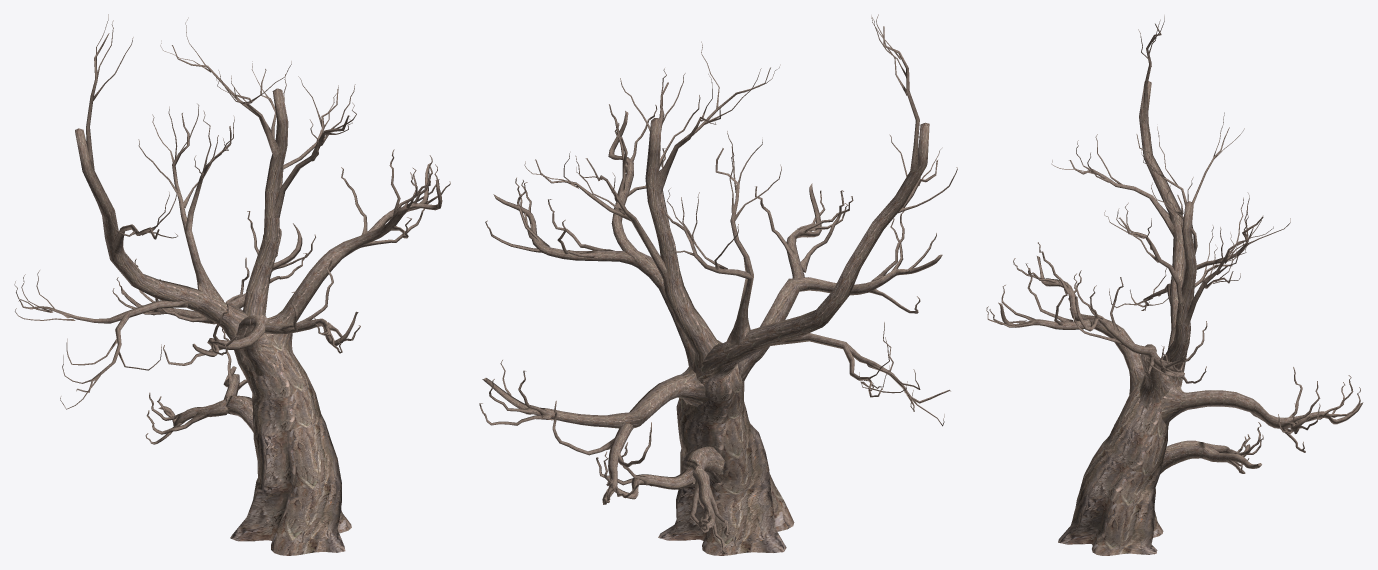
File: Tree.fbx
The picture shows the model from 3 angles, left to right: view 1: azimuth 30°, elevation 25°; view 2: azimuth 150°, elevation 25°; view 3: azimuth 270°, elevation 25°; orthographic projection. The views are drawn at different scales.
Visible parts, largest first — view 1: Tree_0; view 2: Tree_0; view 3: Tree_0.
Part boxes in pixels (<box>): Tree_0: <box>14,14,450,555</box>; Tree_0: <box>479,14,957,555</box>; Tree_0: <box>986,15,1363,555</box>.
Bounding box in the file's own units: 714 × 913 × 684.
